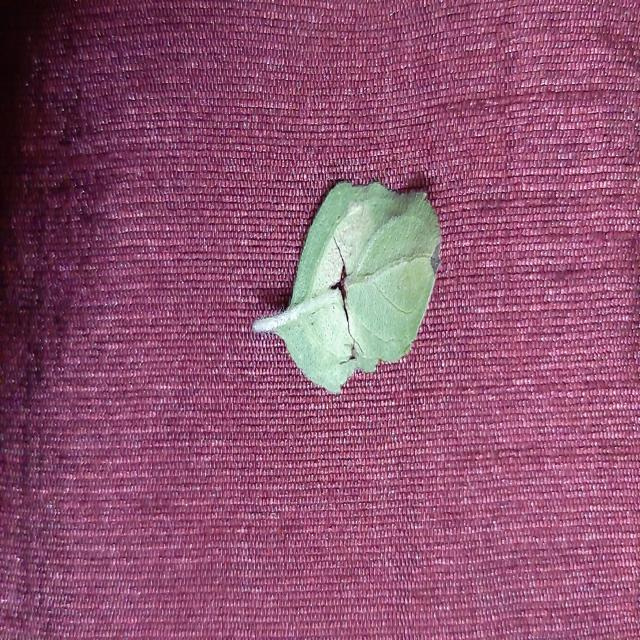defectedtulsi: (310, 203, 416, 371)
tulsi: (252, 182, 440, 393)
